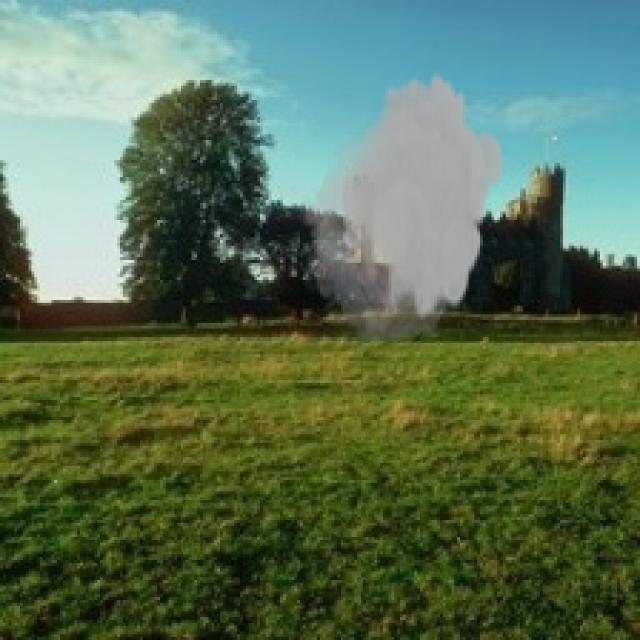smoke: (297, 69, 506, 340)
